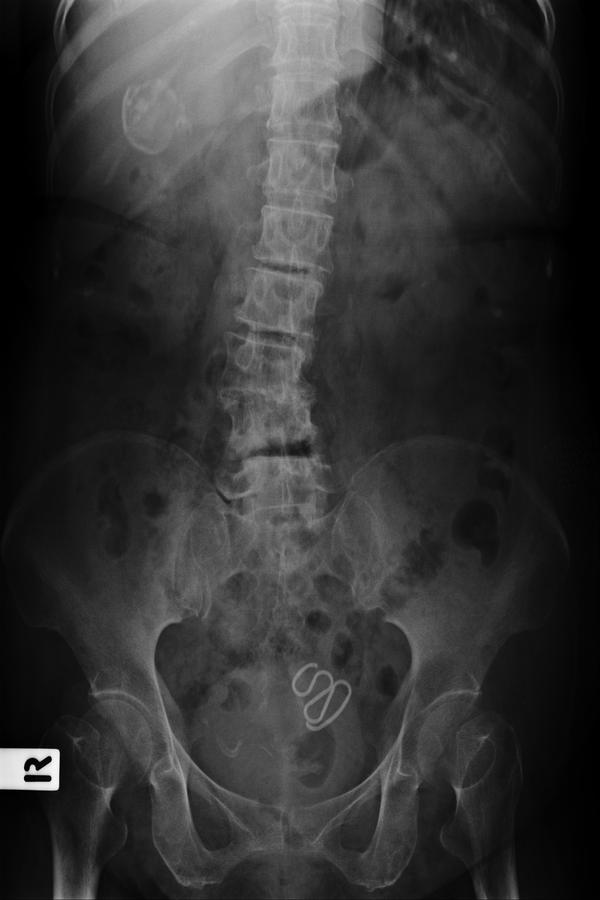lumbar scoliosis: (221, 187, 352, 558)
